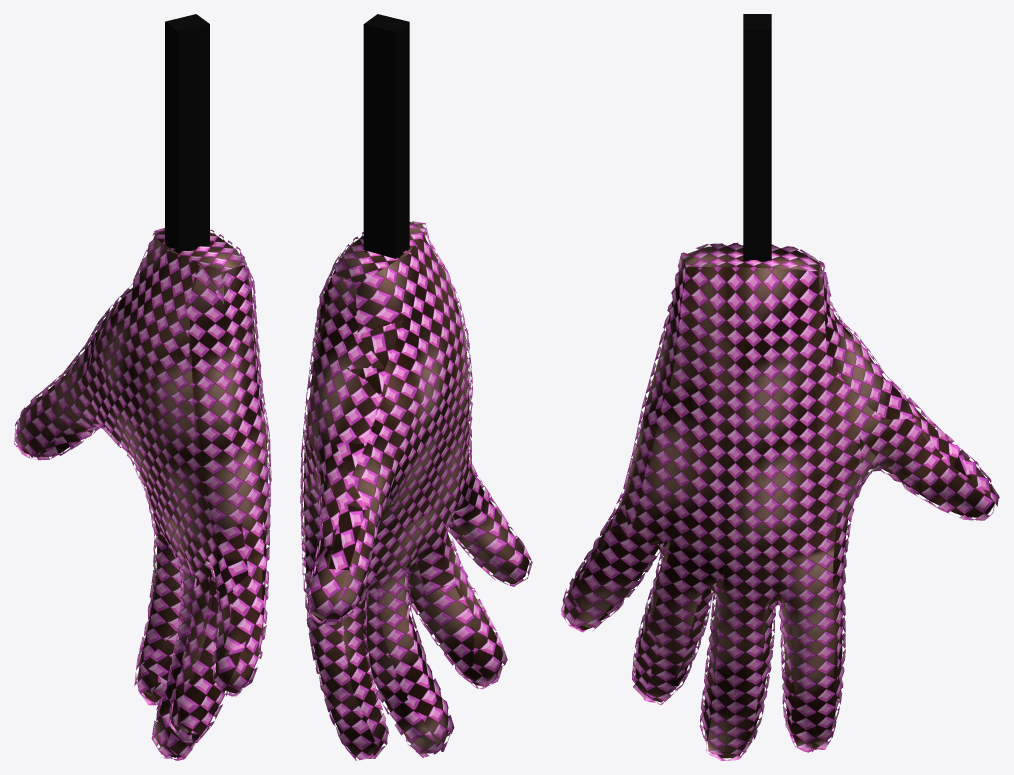
Rendered from Slap_6.obj.
The picture shows the model from 3 angles, left to right: view 1: azimuth 30°, elevation 25°; view 2: azimuth 150°, elevation 25°; view 3: azimuth 270°, elevation 25°; orthographic projection. The views are drawn at different scales.
Parts seen in each view (by area): view 1: Handle1, Handle2, Handle6, Stick1, Handle3, Handle8, Handle4, Handle7; view 2: Handle1, Handle2, Handle7, Stick1, Handle8, Handle3, Handle6, Handle4; view 3: Handle1, Handle3, Handle7, Stick1, Handle6, Handle8, Handle4.
Boxes of the visible parts, x1,y1,x2,y2 form: Handle1: (17, 231, 268, 757); Handle2: (14, 232, 247, 756); Handle6: (35, 263, 270, 758); Stick1: (165, 14, 209, 253); Handle3: (90, 231, 271, 748); Handle8: (26, 228, 246, 683); Handle4: (14, 423, 250, 760); Handle7: (16, 228, 215, 746); Handle1: (303, 222, 529, 757); Handle2: (332, 224, 532, 758); Handle7: (302, 275, 510, 759); Stick1: (363, 14, 409, 258); Handle8: (313, 221, 425, 570); Handle3: (300, 232, 489, 759); Handle6: (363, 226, 530, 736); Handle4: (309, 498, 527, 760); Handle1: (563, 245, 995, 758); Handle3: (570, 267, 993, 754); Handle7: (600, 263, 999, 755); Stick1: (743, 14, 771, 261); Handle6: (561, 255, 795, 752); Handle8: (681, 243, 972, 721); Handle4: (569, 465, 991, 760).
Size of the model in its own units: 0.9559 by 4.72 by 2.49.
